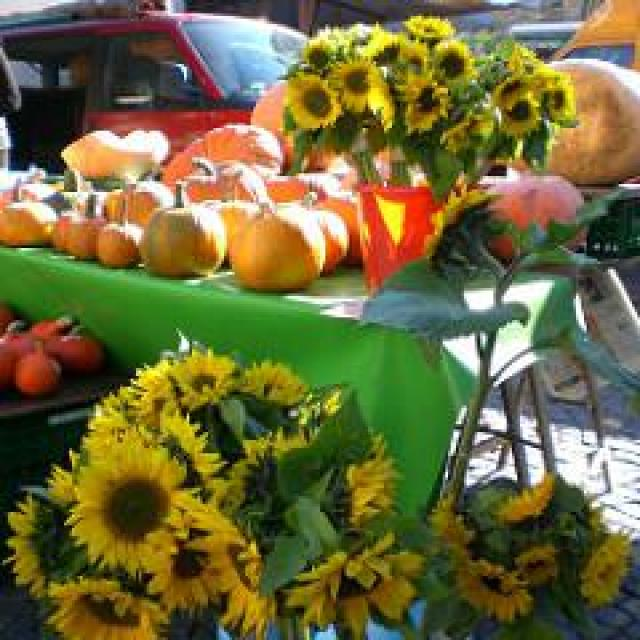sunflower: (68, 440, 191, 573), (291, 537, 429, 639), (185, 501, 274, 640), (45, 576, 163, 640), (347, 434, 400, 522), (456, 560, 531, 619), (237, 351, 315, 404), (580, 527, 628, 604), (171, 351, 232, 401), (289, 71, 340, 129), (401, 74, 447, 130), (335, 59, 377, 109), (511, 548, 558, 588), (491, 95, 541, 132), (432, 43, 472, 85), (405, 16, 459, 40), (542, 84, 574, 116), (301, 40, 336, 69)
